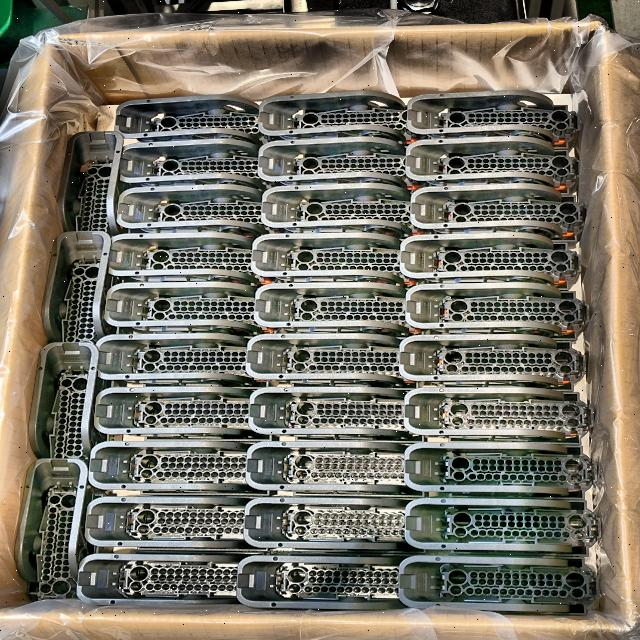P38: (14, 458, 114, 601), (397, 555, 601, 617), (242, 497, 443, 557), (27, 342, 127, 460), (245, 333, 445, 392), (405, 497, 602, 556), (247, 387, 435, 447), (403, 387, 594, 446), (254, 283, 449, 340), (404, 442, 599, 499), (250, 232, 439, 290), (405, 282, 590, 341), (93, 387, 281, 445), (399, 334, 587, 392), (260, 183, 447, 241), (406, 90, 580, 152), (257, 137, 440, 195), (399, 233, 582, 291), (409, 183, 584, 242), (405, 136, 579, 195), (87, 441, 271, 496), (41, 230, 128, 346), (84, 497, 267, 552), (245, 442, 427, 497), (95, 333, 269, 390), (76, 553, 259, 607), (236, 555, 413, 610), (108, 233, 284, 288), (105, 282, 274, 339), (259, 90, 428, 147), (115, 184, 277, 239), (118, 138, 271, 191), (114, 94, 264, 146), (56, 130, 123, 236)
